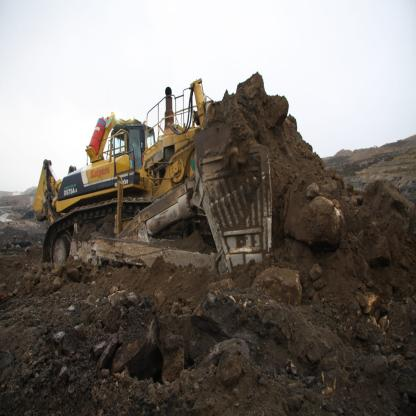bull_dozer/loader/grader: (23, 65, 288, 312)
